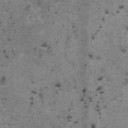oxide scale of temperature system: (66, 76, 104, 128), (92, 4, 124, 40), (0, 50, 10, 86), (30, 90, 44, 106), (40, 42, 48, 48), (87, 53, 94, 59), (54, 82, 62, 87), (121, 48, 126, 52)
